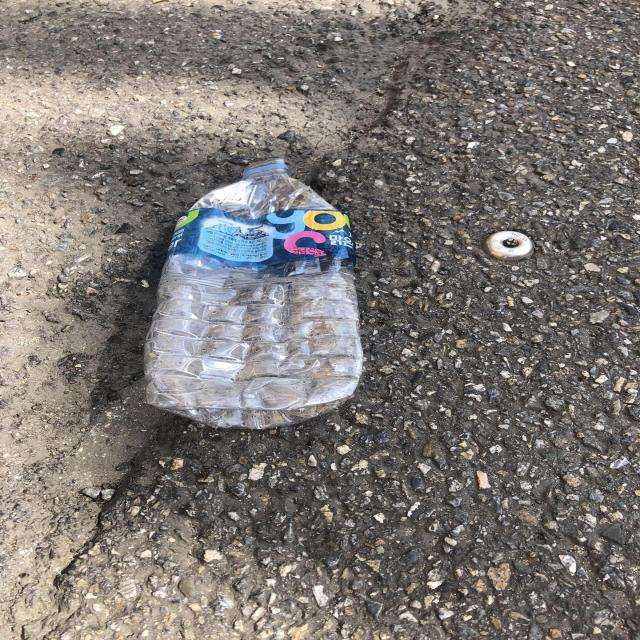plastic: (144, 158, 363, 430)
